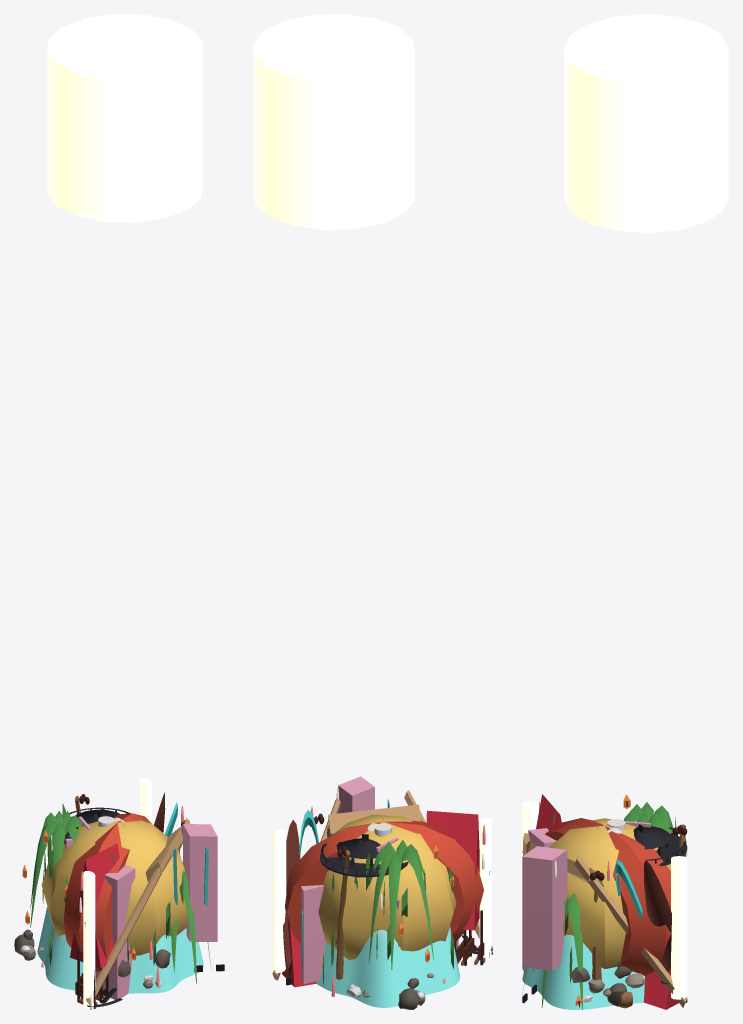
Rendered from ile-phare-v4.glb.
3 renders of one model, left to right at view 1: azimuth 30°, elevation 25°; view 2: azimuth 150°, elevation 25°; view 3: azimuth 270°, elevation 25°, orthographic. The views are drawn at different scales.
Parts seen in each view (by area): view 1: phare_lanterne.001, phare_decor.001, phare_terrain.001; view 2: phare_decor.001, phare_lanterne.001, phare_terrain.001; view 3: phare_lanterne.001, phare_decor.001, phare_terrain.001.
Part boxes in pixels (box(x1,y1,x2,y2)): phare_lanterne.001: box(47, 14, 203, 222); phare_decor.001: box(14, 778, 224, 1009); phare_terrain.001: box(37, 817, 203, 993); phare_decor.001: box(272, 776, 493, 1009); phare_lanterne.001: box(253, 14, 414, 229); phare_terrain.001: box(316, 823, 459, 1007); phare_lanterne.001: box(563, 14, 728, 233); phare_decor.001: box(522, 794, 687, 1009); phare_terrain.001: box(522, 827, 644, 1009).
Size of the model in its own units: 2.4 by 12.58 by 2.5.
